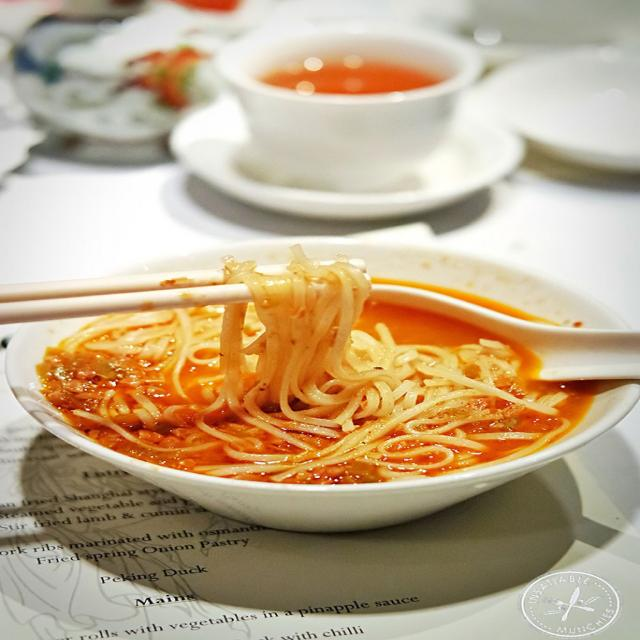Tea: (257, 56, 433, 93)
